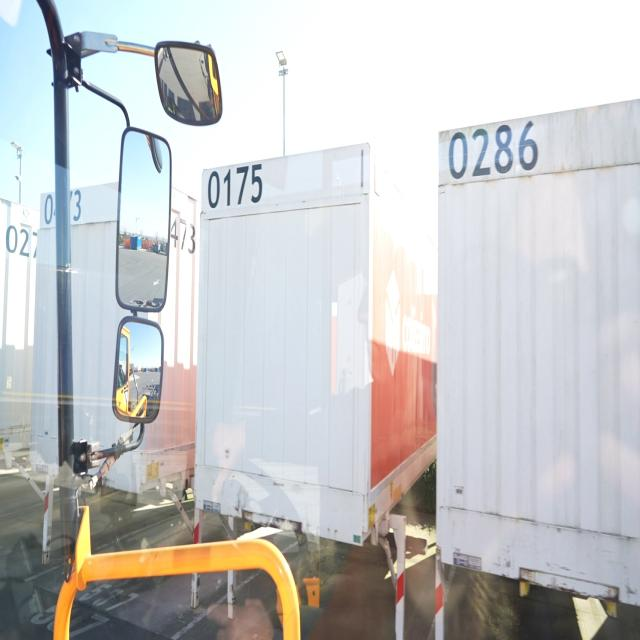Code: (443, 113, 537, 184), (205, 151, 268, 209)
